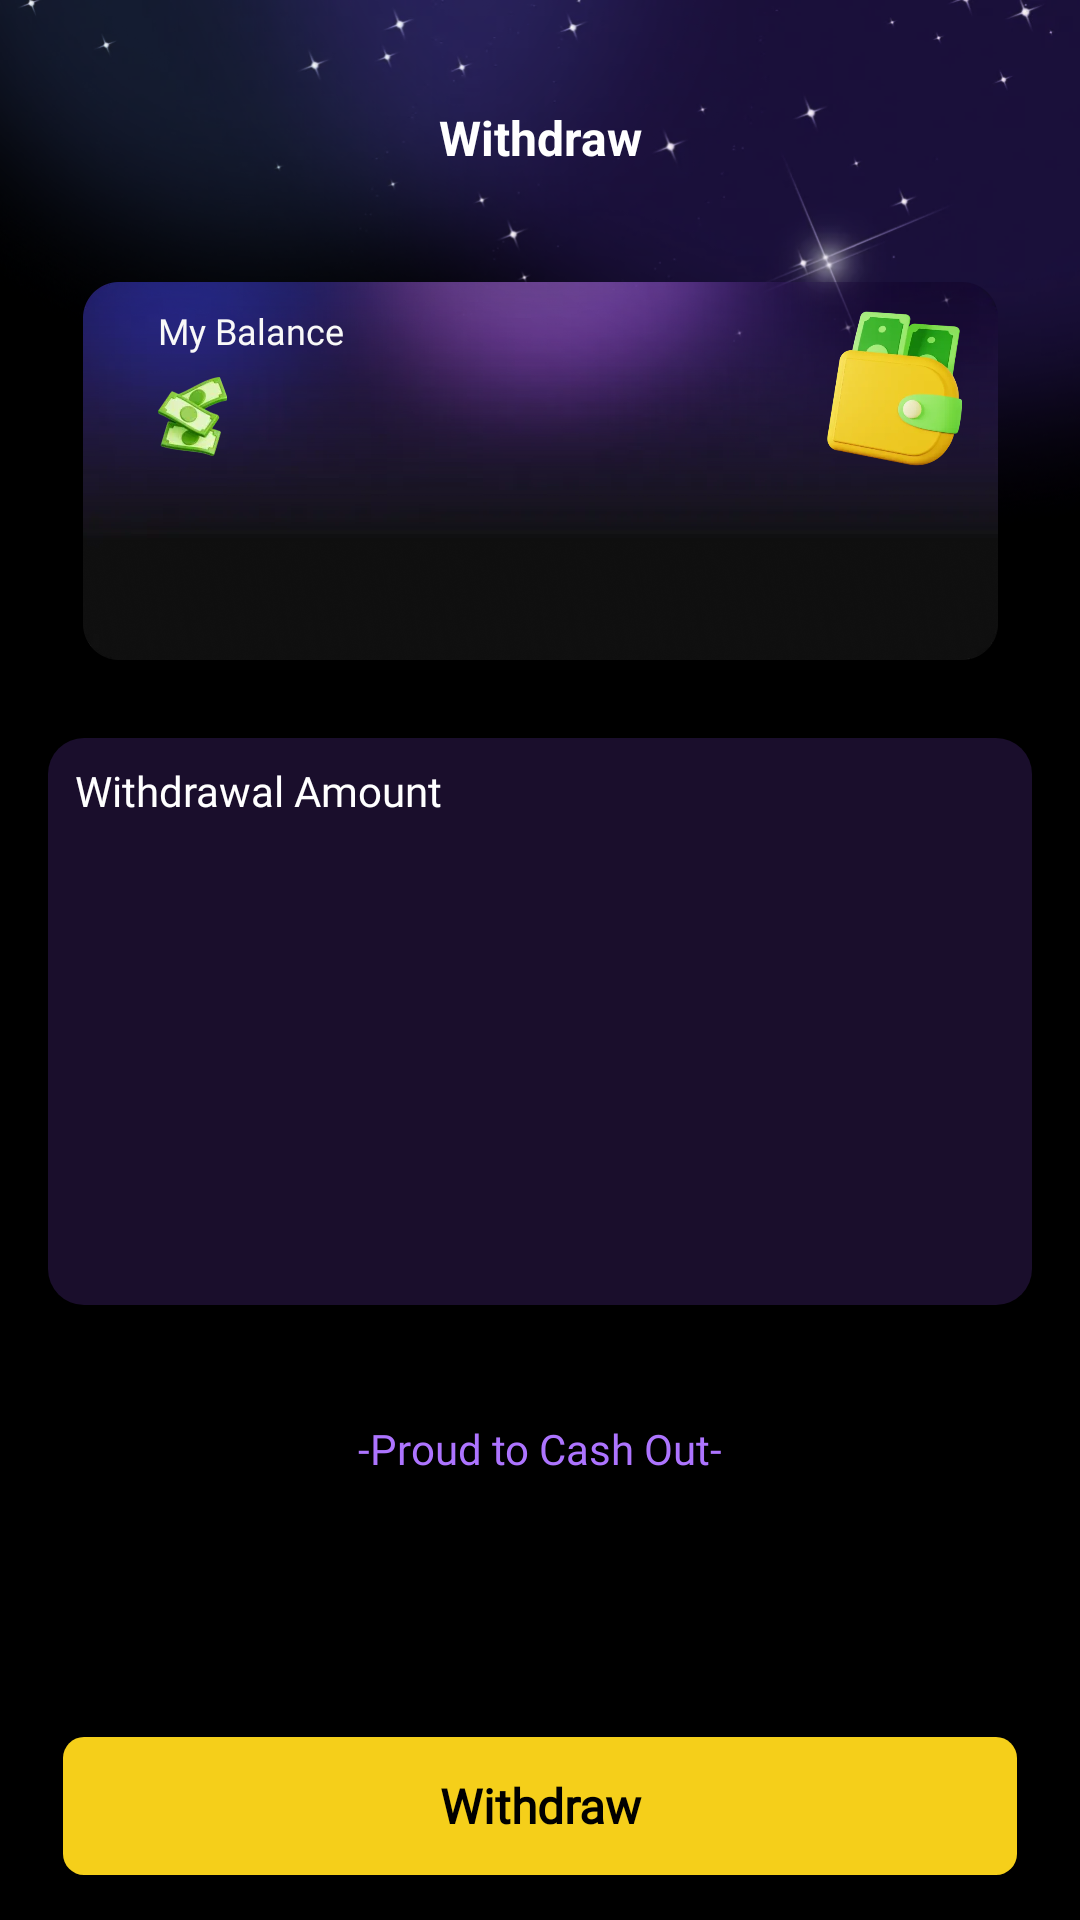

Where to tap for icons on this 1080px×1920px app screen, as (x,y):
money: (192,416)
wallet: (892,374)
